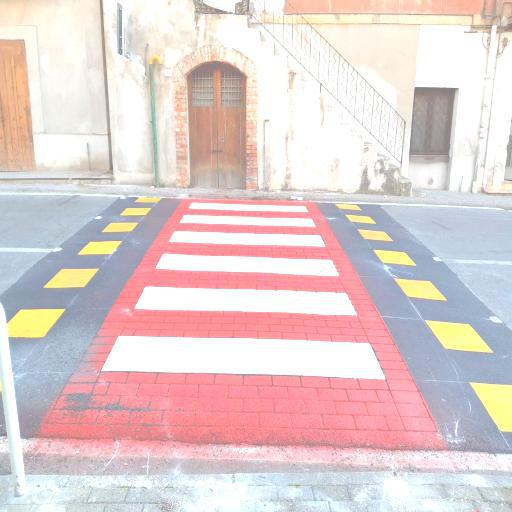crosswalk: (97, 284, 389, 386), (152, 230, 344, 276)
